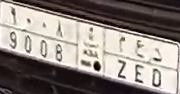0: (23, 18, 33, 54), (39, 21, 48, 59)
8: (54, 20, 64, 63)
9: (7, 6, 19, 49)
D: (150, 47, 163, 88)
E: (134, 39, 145, 85)
Z: (116, 36, 128, 79)
